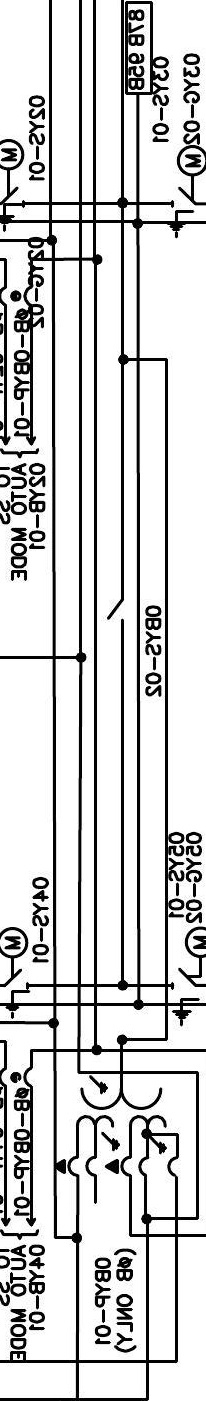115_ds: (106, 597, 125, 623)
115_vt_1p: (54, 1074, 168, 1178)
